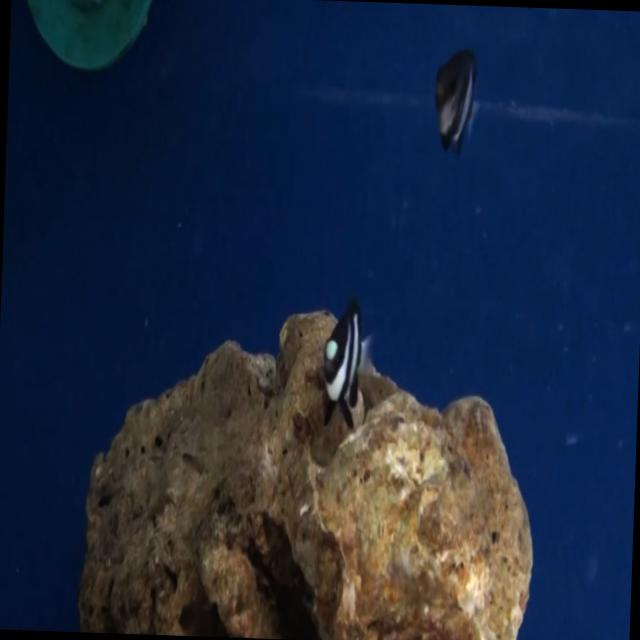ThreeStripedDamselfish: (317, 301, 372, 427)
